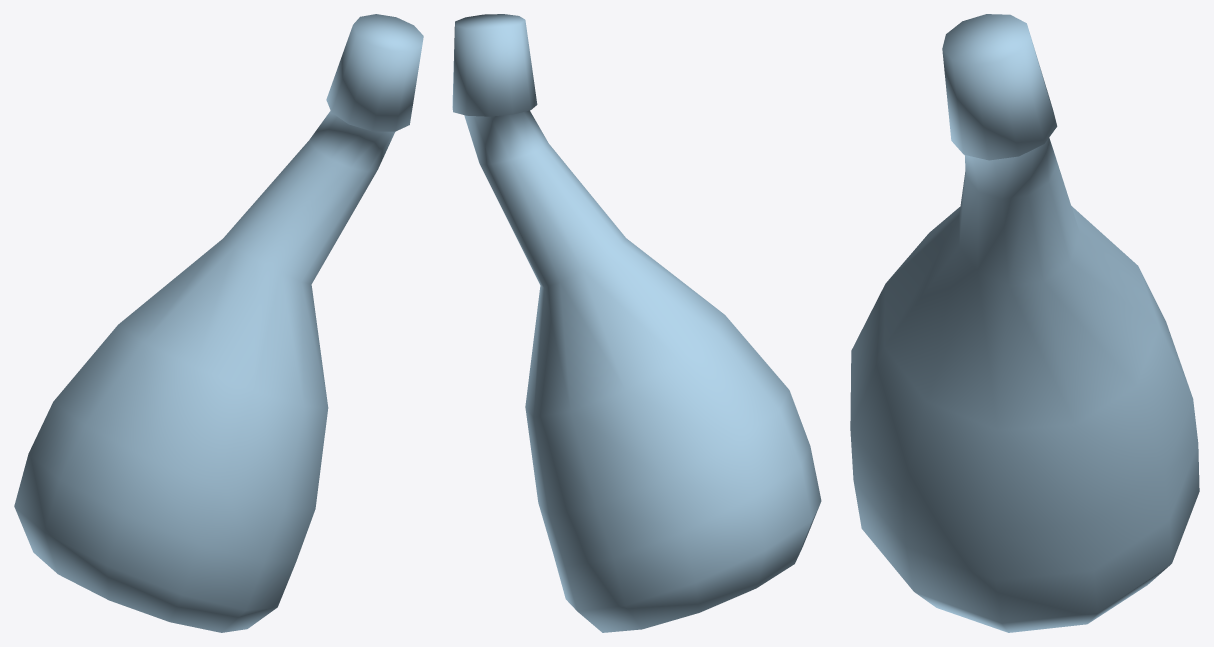
Rendered from 19_Potion_2.fbx.
3 renders of one model, left to right at view 1: azimuth 30°, elevation 25°; view 2: azimuth 150°, elevation 25°; view 3: azimuth 270°, elevation 25°, orthographic. The views are drawn at different scales.
Parts seen in each view (by area): view 1: Sphere.037; view 2: Sphere.037; view 3: Sphere.037.
Part boxes in pixels (x1,y1,x2,y2): Sphere.037: (14,14,423,632); Sphere.037: (452,14,821,632); Sphere.037: (850,14,1199,632).
Size of the model in its own units: 52.48 by 76.28 by 35.17.
